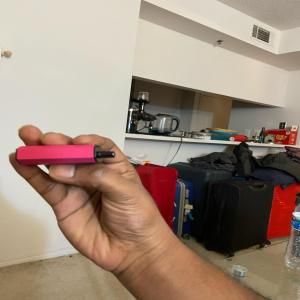Blume-E-Ciggirate: (9, 144, 117, 164)
